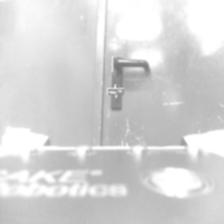Door Handle: (112, 56, 151, 72)
Lock: (109, 86, 122, 98)
